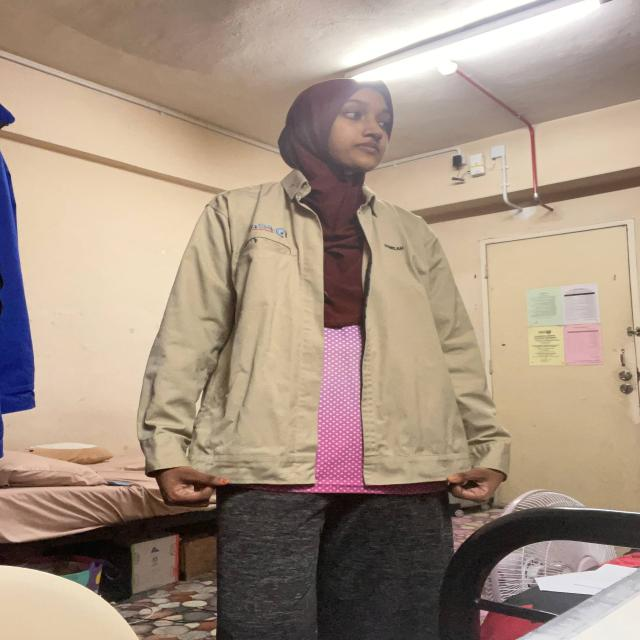person_with_labcoat: (137, 79, 510, 640)
